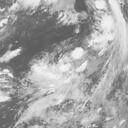cyclone: (39, 51, 92, 98)
